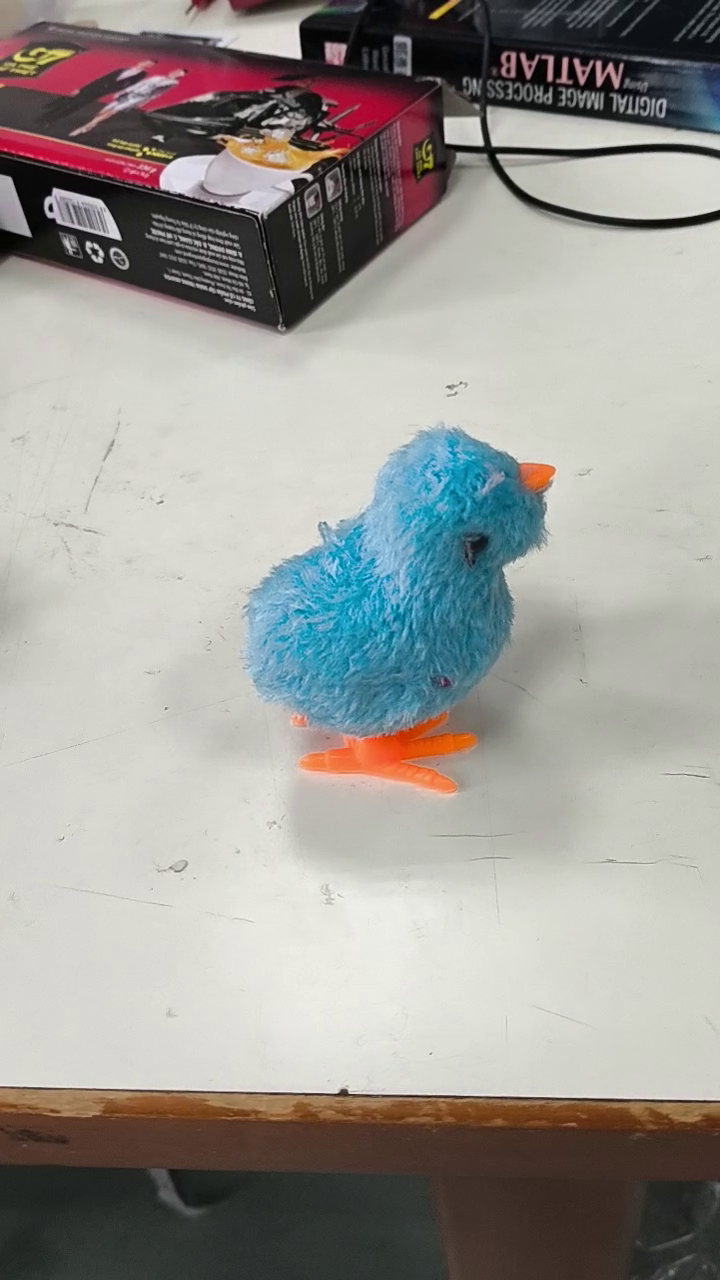blue chicken: (237, 421, 567, 810)
